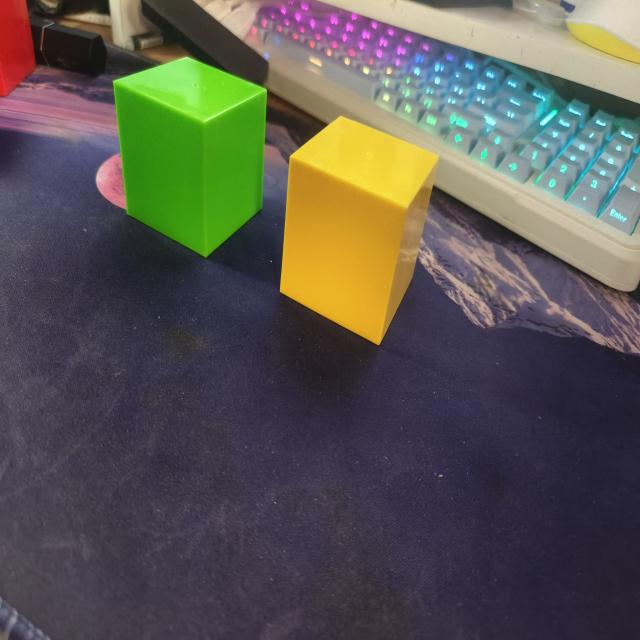green: (105, 54, 272, 264)
yellow: (277, 113, 446, 347)
